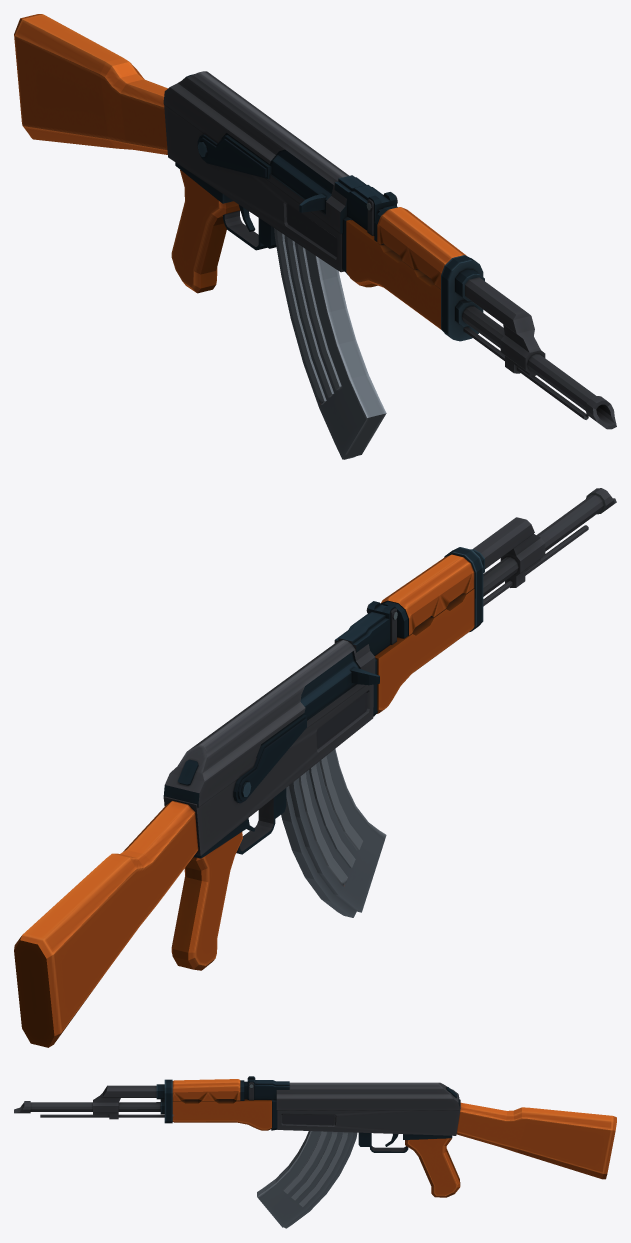
3 renders of one model, top to bottom at view 1: azimuth 30°, elevation 25°; view 2: azimuth 150°, elevation 25°; view 3: azimuth 270°, elevation 25°, orthographic. The views are drawn at different scales.
Parts seen in each view (by area): view 1: Ak_47_rifle; view 2: Ak_47_rifle; view 3: Ak_47_rifle.
Part boxes in pixels (bbox=[...]): Ak_47_rifle: bbox=[14, 14, 616, 459]; Ak_47_rifle: bbox=[14, 488, 616, 1047]; Ak_47_rifle: bbox=[14, 1076, 616, 1228].
Size of the model in its own units: 0.6745 by 3.11 by 11.45.
1 material, 1 textured.
